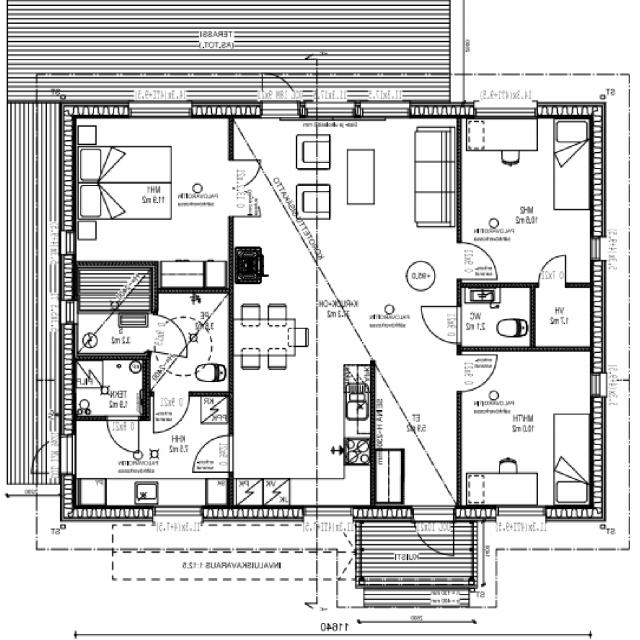door: (414, 504, 454, 562), (263, 64, 300, 118), (24, 436, 76, 474), (147, 314, 192, 356), (421, 306, 462, 343), (457, 242, 498, 279), (457, 355, 497, 391), (194, 436, 234, 472), (154, 391, 189, 431), (108, 415, 138, 452), (230, 188, 262, 217), (230, 160, 262, 188), (539, 255, 565, 287)
